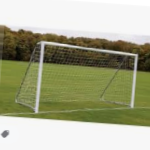goals: (15, 40, 139, 119)
